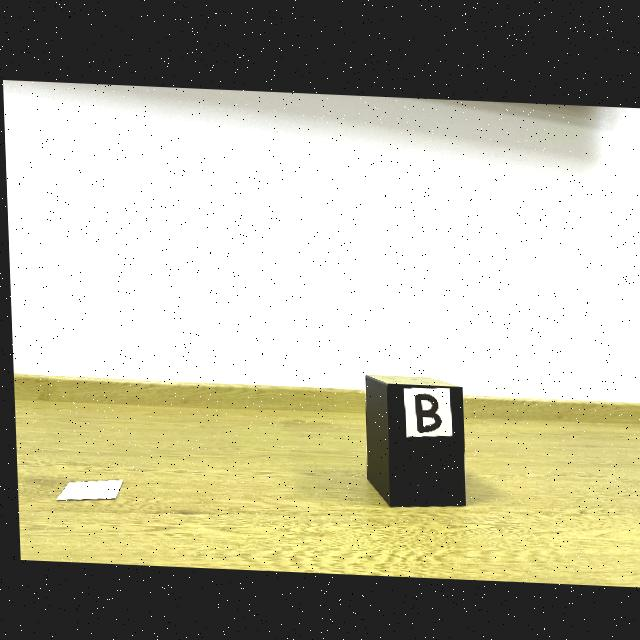B: (413, 389, 438, 429)
